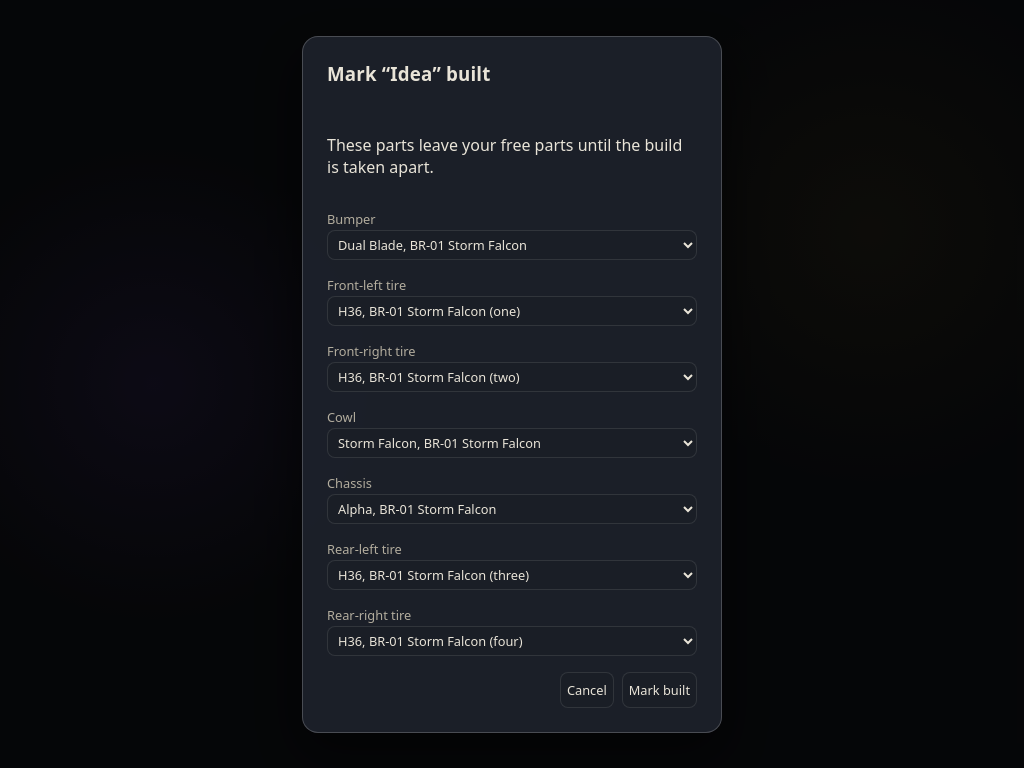
MarkBuiltDialog › stays open with the message when marking built fails
The image size is (1024, 768).
Click the button "Mark built". click: (659, 690)
box: [622, 672, 697, 708]
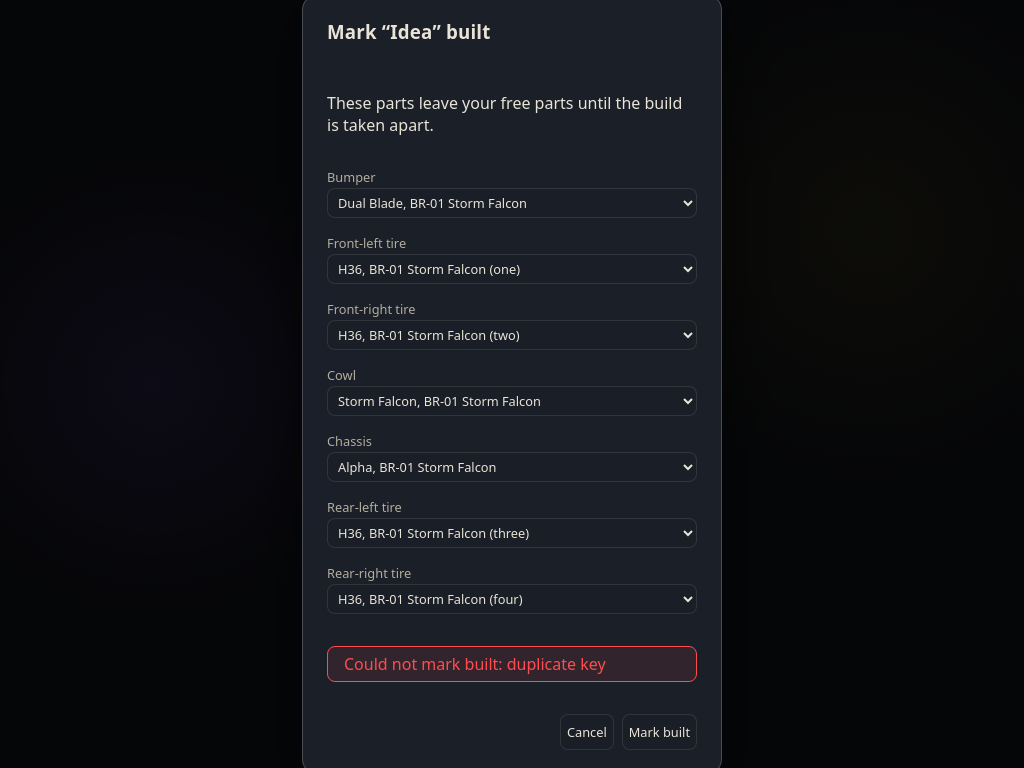
Now the message reads "Could not mark built: duplicate key", box [344, 652, 606, 674]
